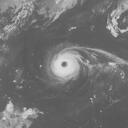cyclone: (46, 43, 127, 85)
